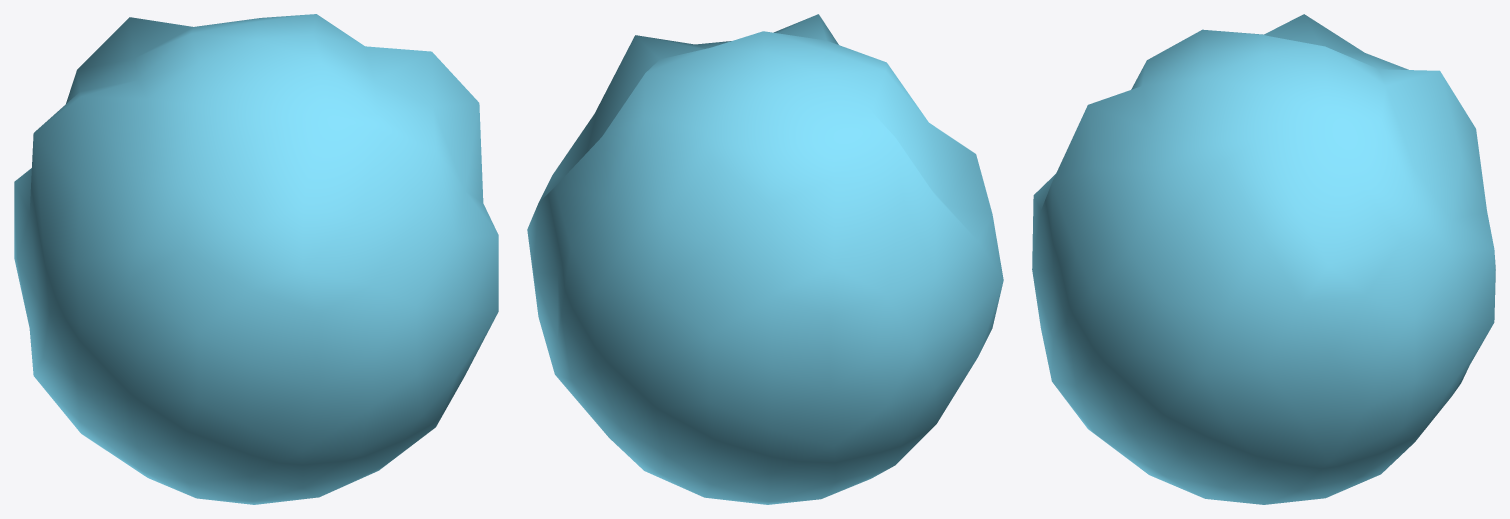
Rendered from lightpath_flagship_shrine.glb.
3 renders of one model, left to right at view 1: azimuth 30°, elevation 25°; view 2: azimuth 150°, elevation 25°; view 3: azimuth 270°, elevation 25°, orthographic. The views are drawn at different scales.
Visible parts, largest first — view 1: AAA_Procedural_CoreMesh; view 2: AAA_Procedural_CoreMesh; view 3: AAA_Procedural_CoreMesh.
Boxes of the visible parts, x1,y1,x2,y2 form: AAA_Procedural_CoreMesh: [14, 14, 498, 504]; AAA_Procedural_CoreMesh: [527, 14, 1003, 504]; AAA_Procedural_CoreMesh: [1032, 14, 1495, 504].
Bounding box in the file's own units: 1.83 × 1.85 × 1.8.
